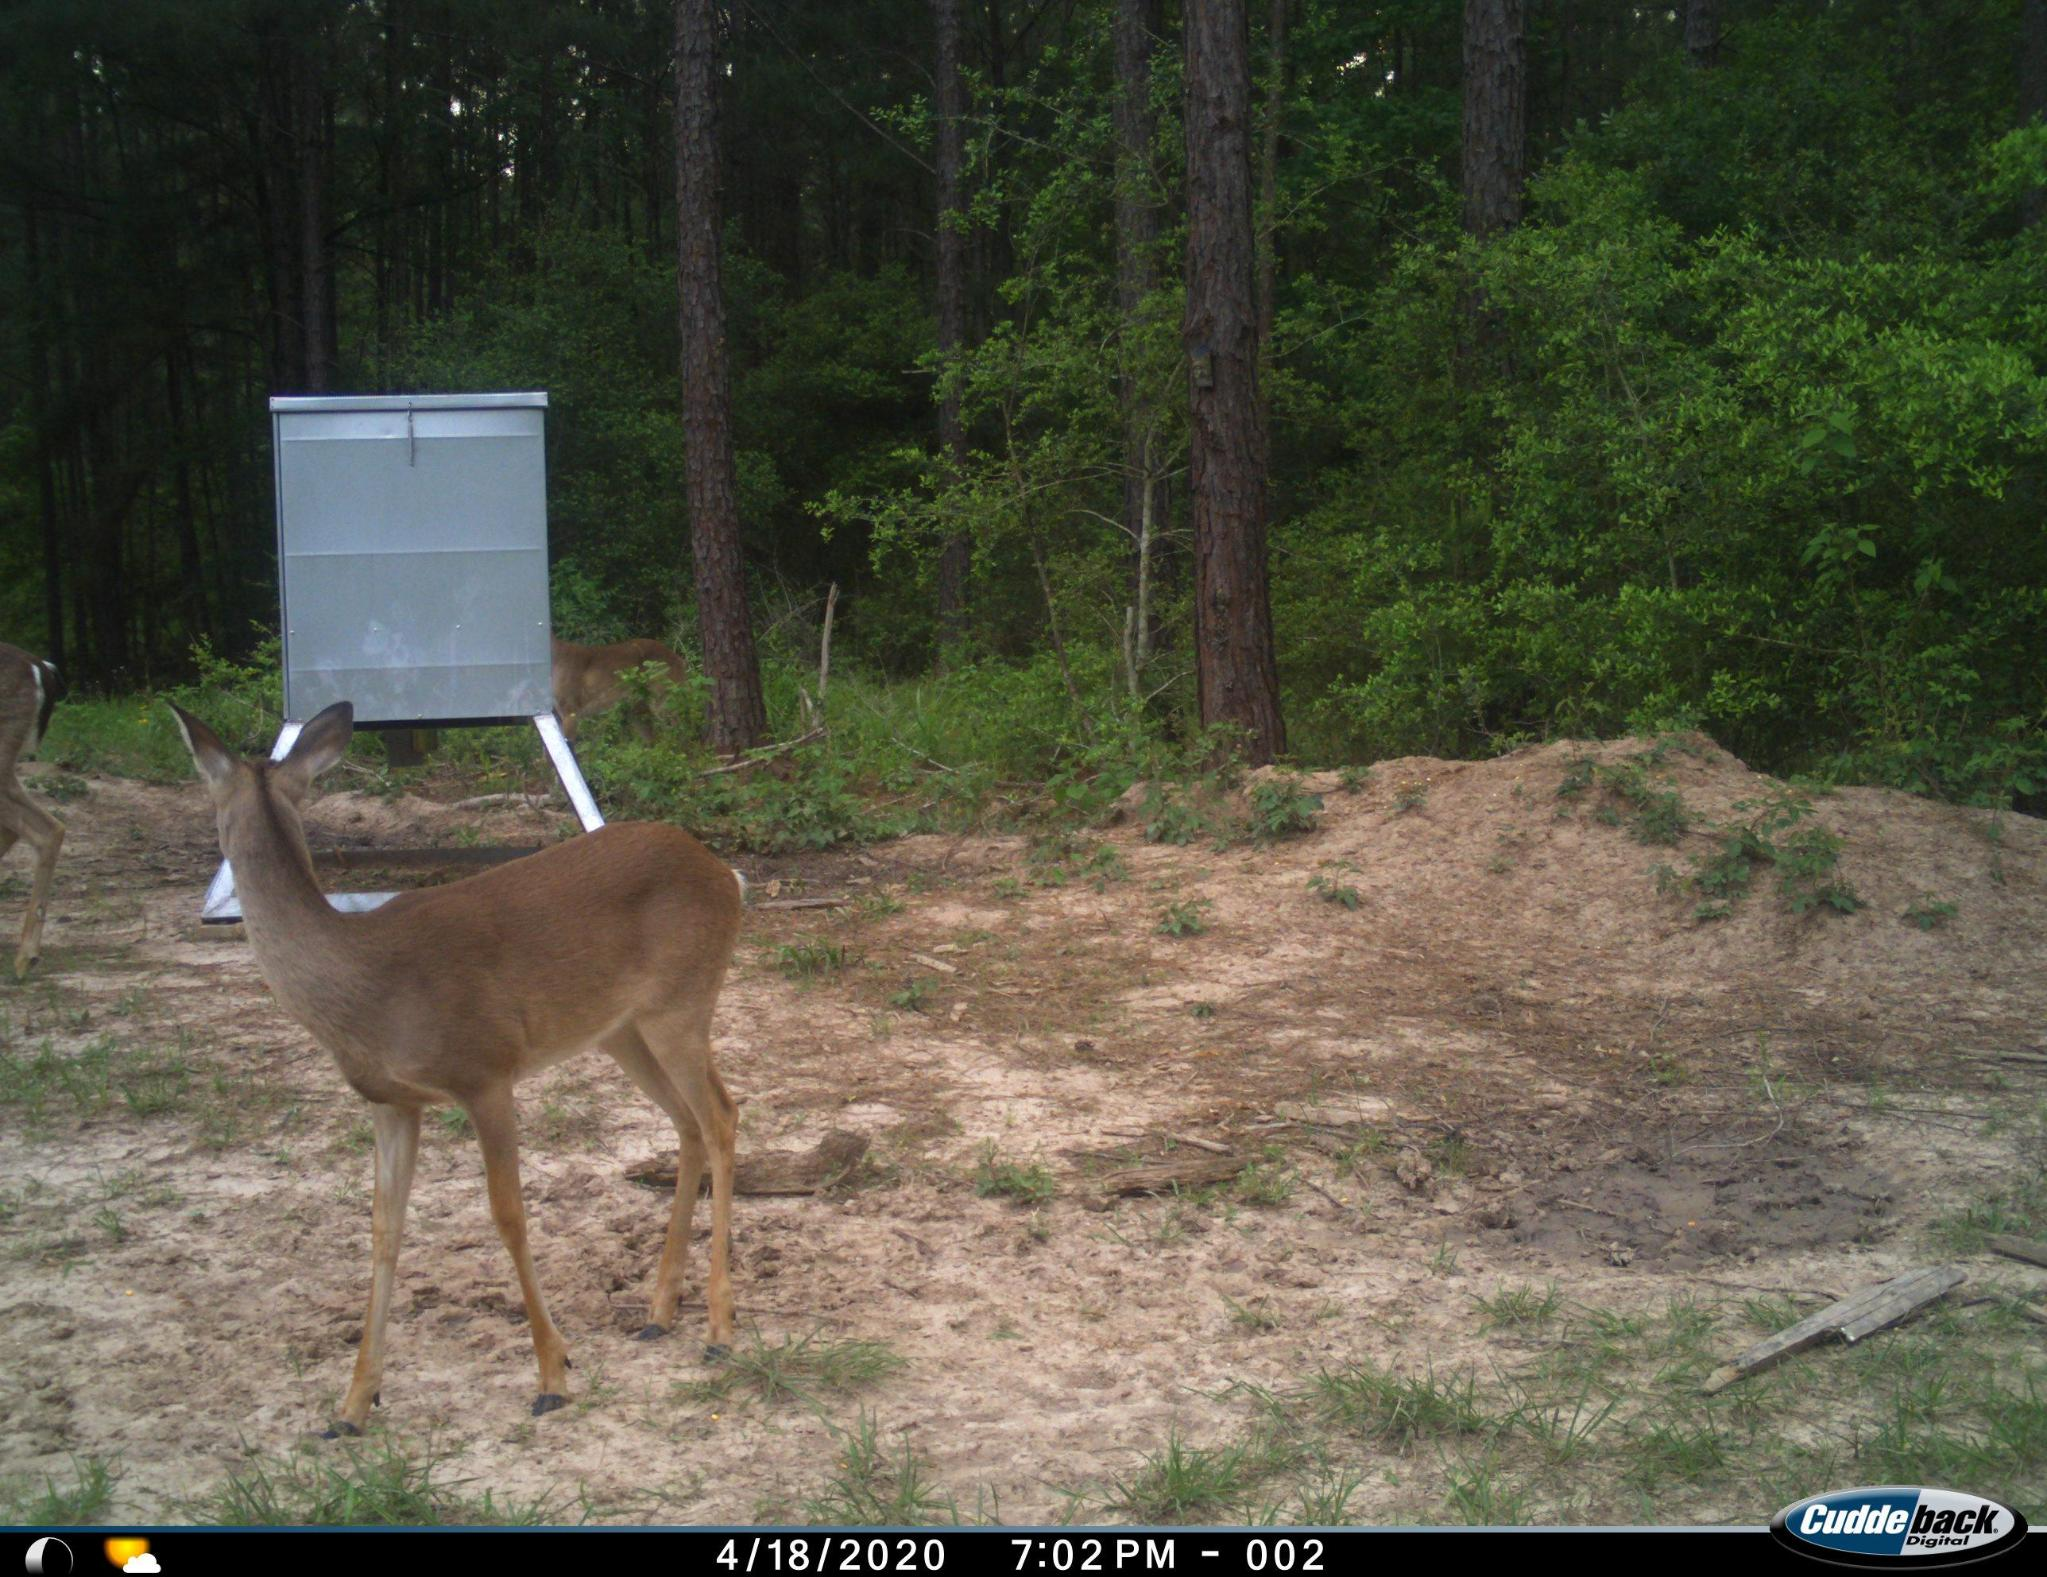Deer: (147, 686, 768, 1441), (0, 620, 78, 982), (545, 623, 692, 764)
